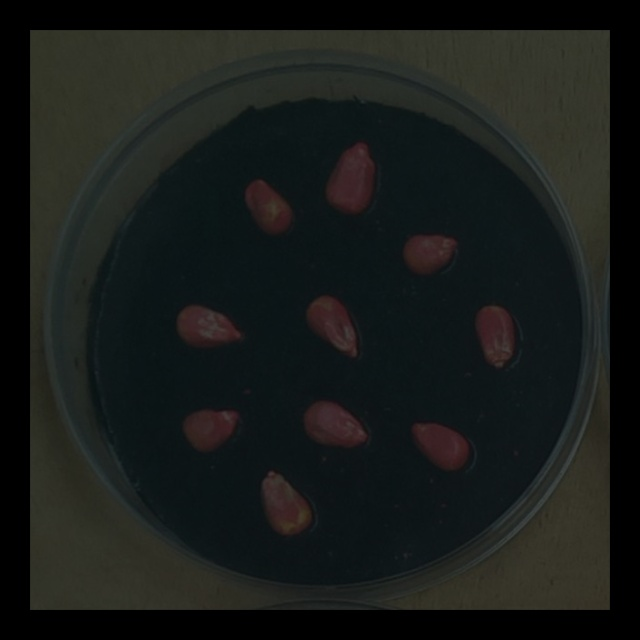Zea mays: (319, 136, 383, 224), (253, 464, 319, 541), (300, 289, 366, 365), (168, 298, 249, 356), (298, 395, 375, 454), (405, 416, 475, 479), (175, 401, 248, 460), (237, 174, 299, 243), (467, 300, 521, 376), (396, 228, 464, 283)
